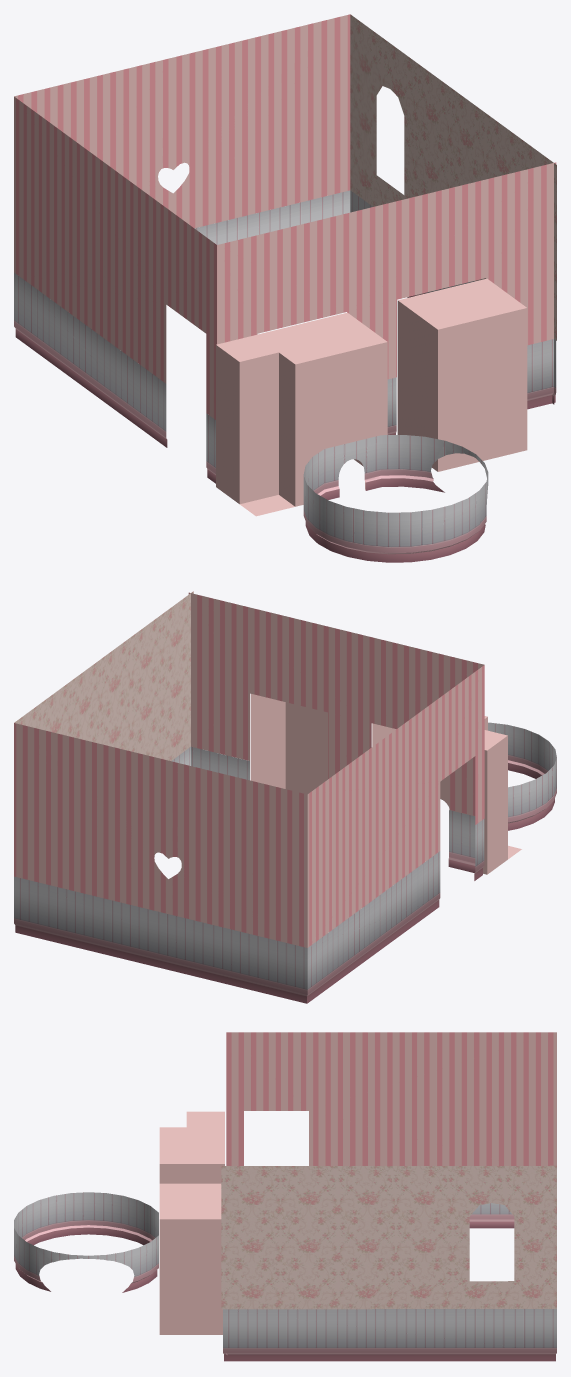
The model's file is Doll_Room_Wall_001.FBX.
3 views of the same model, one above another, from view 1: azimuth 30°, elevation 25°; view 2: azimuth 150°, elevation 25°; view 3: azimuth 270°, elevation 25° (orthographic). The views are drawn at different scales.
Parts seen in each view (by area): view 1: Doll_Room_Wall_001, Doll_Room_Wall_001_2, Doll_Room_Wall_001_1; view 2: Doll_Room_Wall_001, Doll_Room_Wall_001_2, Doll_Room_Wall_001_1; view 3: Doll_Room_Wall_001, Doll_Room_Wall_001_1, Doll_Room_Wall_001_2.
Boxes of the visible parts, <box> form: Doll_Room_Wall_001: <box>14,14,556,516</box>; Doll_Room_Wall_001_2: <box>14,190,556,562</box>; Doll_Room_Wall_001_1: <box>350,14,556,340</box>; Doll_Room_Wall_001: <box>14,592,521,947</box>; Doll_Room_Wall_001_2: <box>14,722,556,1003</box>; Doll_Room_Wall_001_1: <box>14,591,193,760</box>; Doll_Room_Wall_001: <box>159,1032,556,1334</box>; Doll_Room_Wall_001_1: <box>221,1165,556,1309</box>; Doll_Room_Wall_001_2: <box>14,1192,556,1361</box>.
Size of the model in its own units: 478 by 323 by 810.
